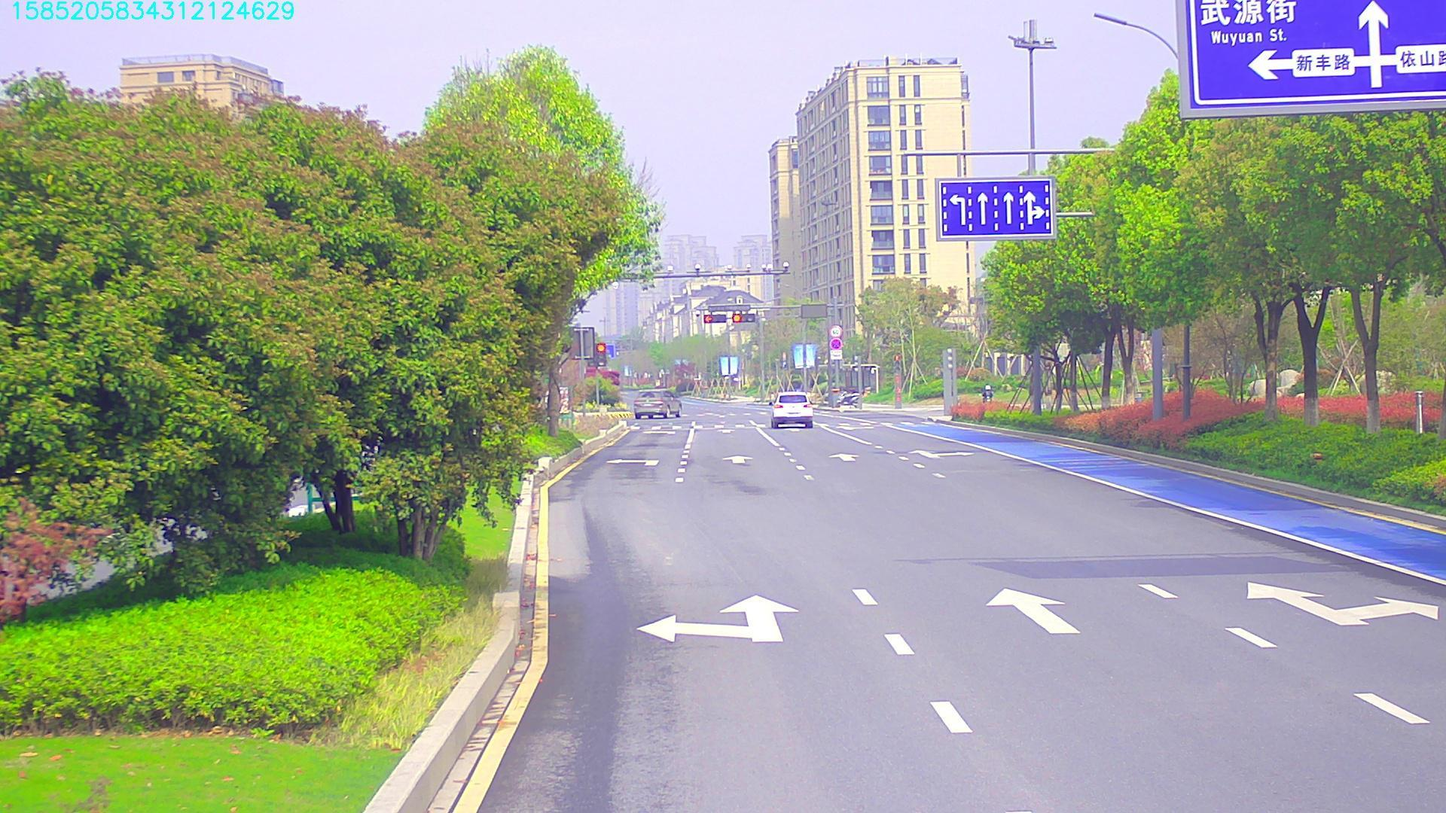red: (731, 310, 760, 328), (700, 312, 726, 324)
